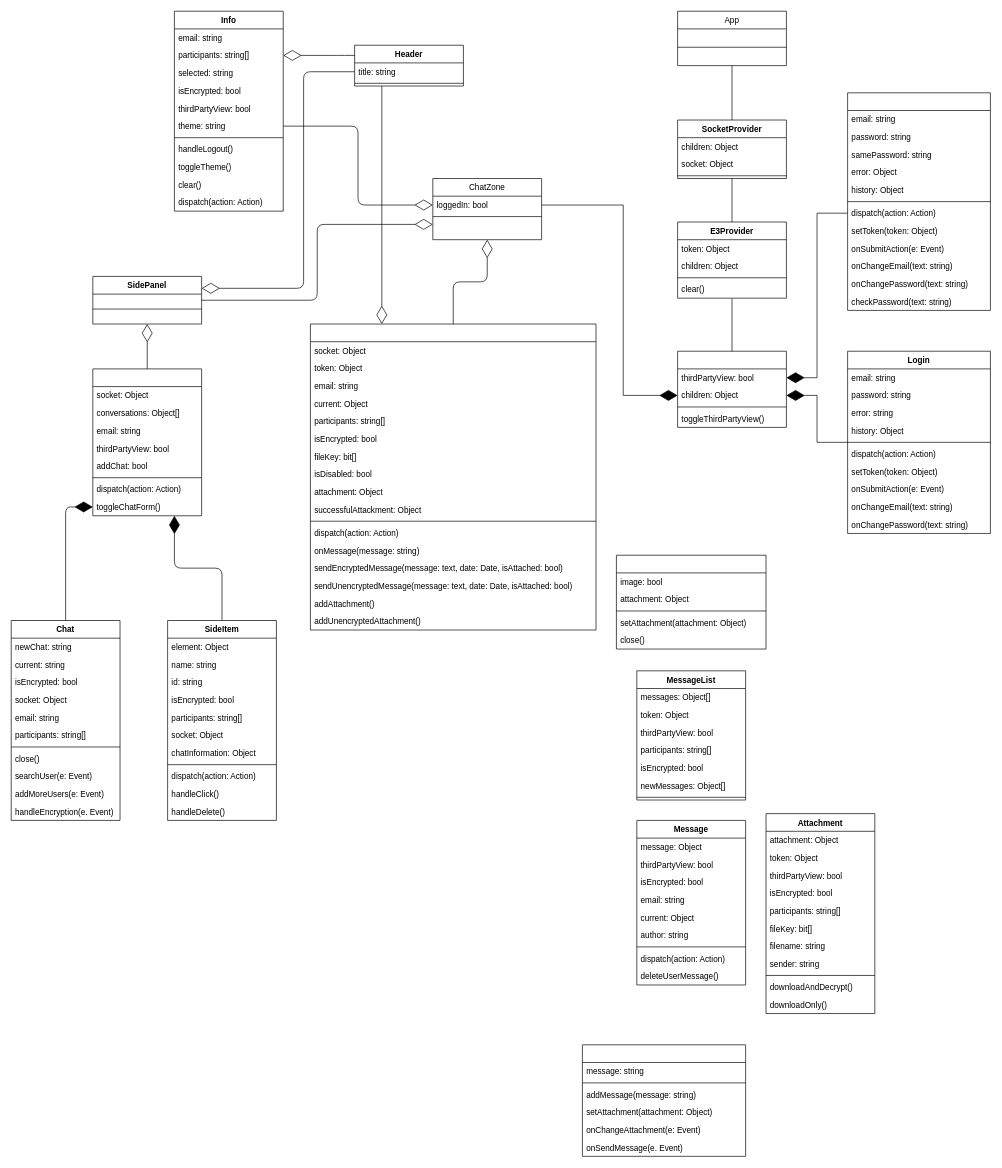
The diagram is 1002 pixels wide and 1168 high, and some of its shapes have lost their labels. Here are the shapes that lost their labels. From the top down, the box of each, then its label:
(847, 92, 990, 310): Signup
(677, 351, 786, 427): ThirdPartyProvider
(92, 368, 202, 516): ChatList
(310, 323, 596, 630): ChatWindow
(616, 555, 766, 649): AttachmentOverlay
(582, 1044, 746, 1156): MessageInput
